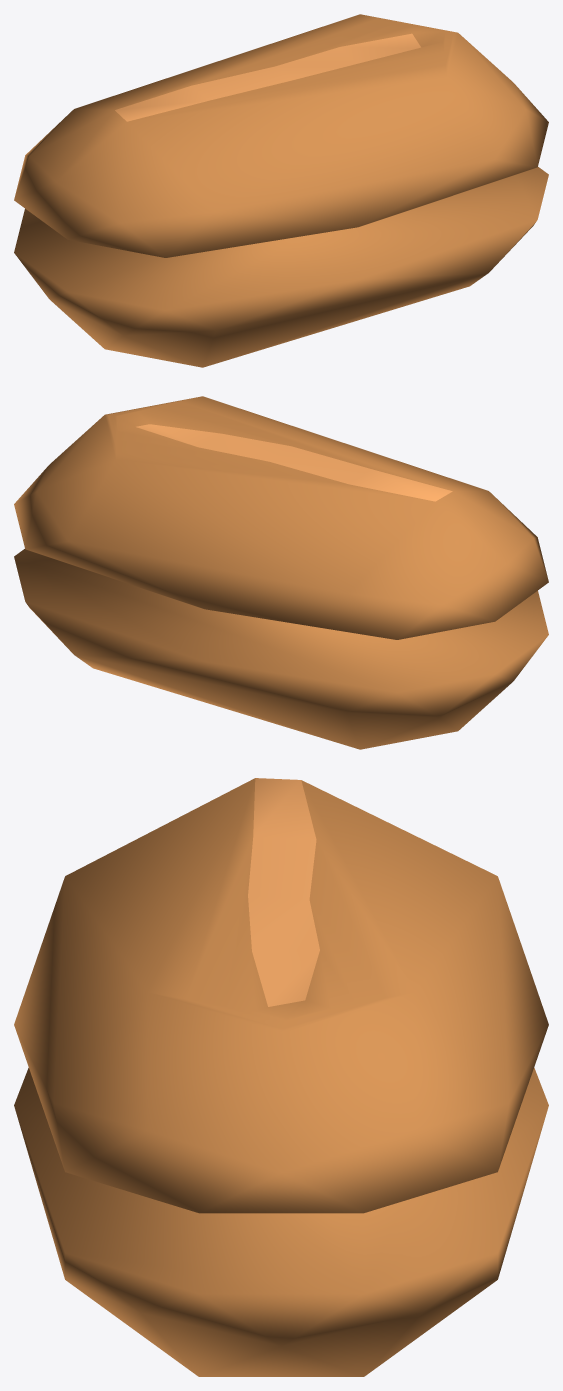
The model's file is BredSplit-Lowpoly.fbx.
The picture shows the model from 3 angles, top to bottom: view 1: azimuth 30°, elevation 25°; view 2: azimuth 150°, elevation 25°; view 3: azimuth 270°, elevation 25°; orthographic projection. The views are drawn at different scales.
Parts seen in each view (by area): view 1: BradTop, BredBottom; view 2: BradTop, BredBottom; view 3: BradTop, BredBottom.
Boxes of the visible parts, left/top/right/bottom form: BradTop: left=14, top=14, right=548, bottom=257; BredBottom: left=14, top=167, right=548, bottom=367; BradTop: left=14, top=396, right=548, bottom=639; BredBottom: left=14, top=549, right=548, bottom=749; BradTop: left=14, top=778, right=548, bottom=1213; BredBottom: left=14, top=1068, right=548, bottom=1376.
Bounding box in the file's own units: 118 × 60.51 × 74.01.
